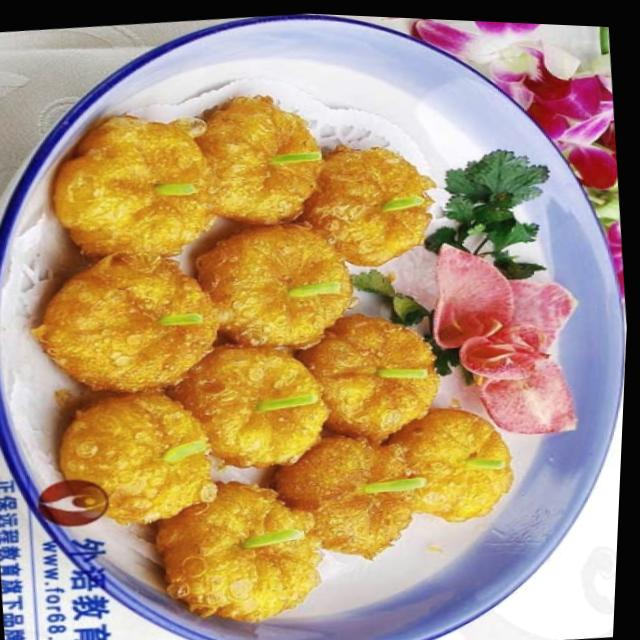炸货点心: (0, 50, 549, 640)
蛋糕甜品: (0, 50, 549, 640)
